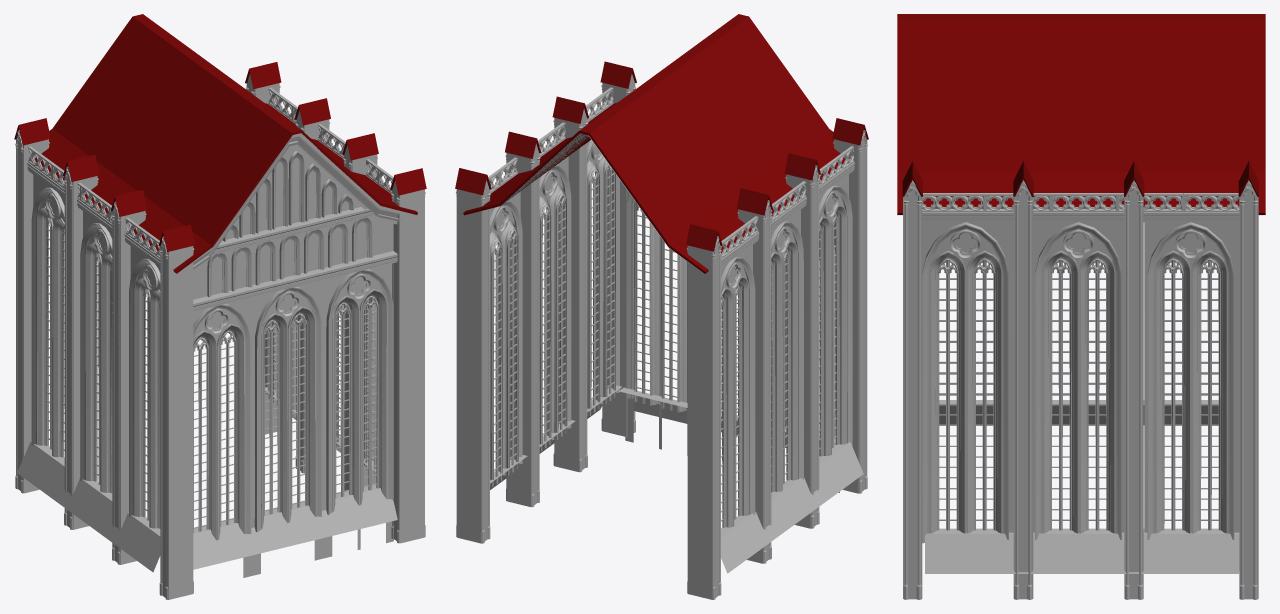
File: wing_002.glb
3 renders of one model, left to right at view 1: azimuth 30°, elevation 25°; view 2: azimuth 150°, elevation 25°; view 3: azimuth 270°, elevation 25°, orthographic. The views are drawn at different scales.
Visible parts, largest first — view 1: wing_002; view 2: wing_002; view 3: wing_002.
Part boxes in pixels (x1,y1,x2,y2): wing_002: [14, 14, 426, 599]; wing_002: [455, 14, 868, 599]; wing_002: [897, 14, 1265, 599].
Bounding box in the file's own units: 2.53 × 4.05 × 2.64.
